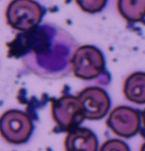N: (21, 23, 80, 78)
